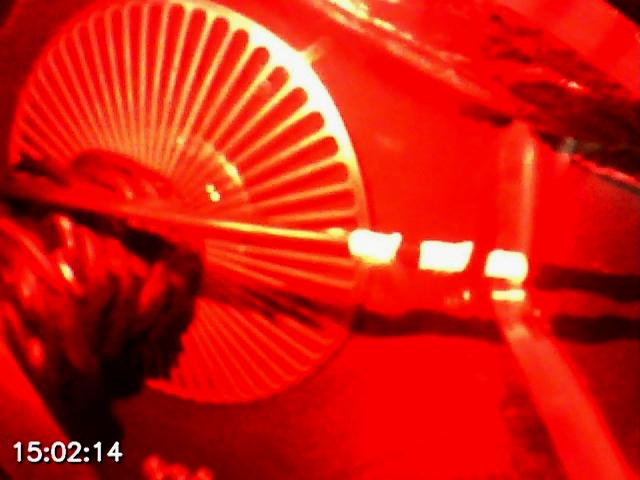white-dots: (348, 226, 530, 286)
